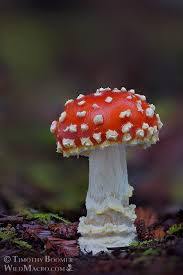Amanita muscaria: (47, 81, 166, 249)
